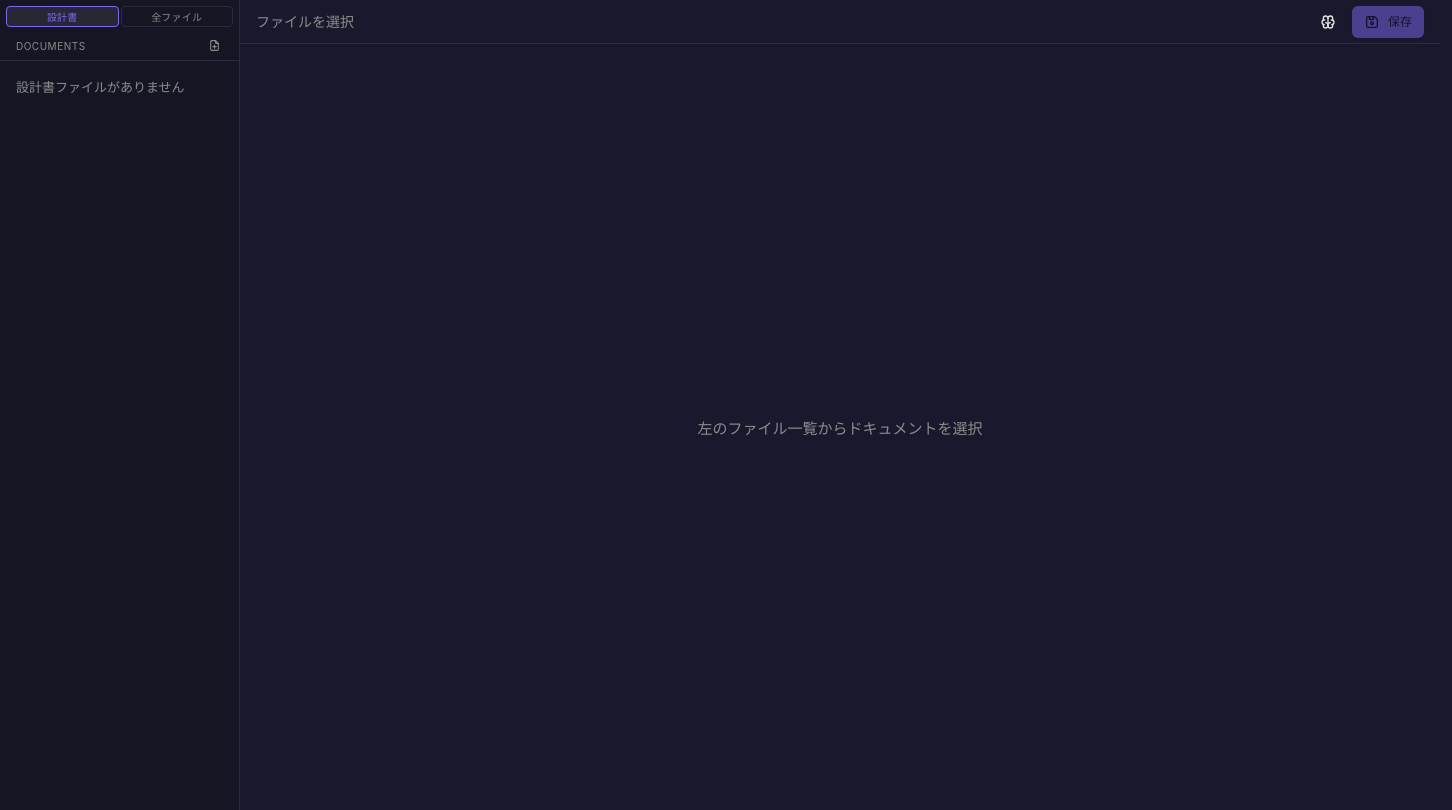
Test: EditorScreen — ツールバー › AI パネルボタンで AiAssistant が表示される
Click the button titled "AI アシスタント": [1328, 22] box [1312, 6, 1344, 38]
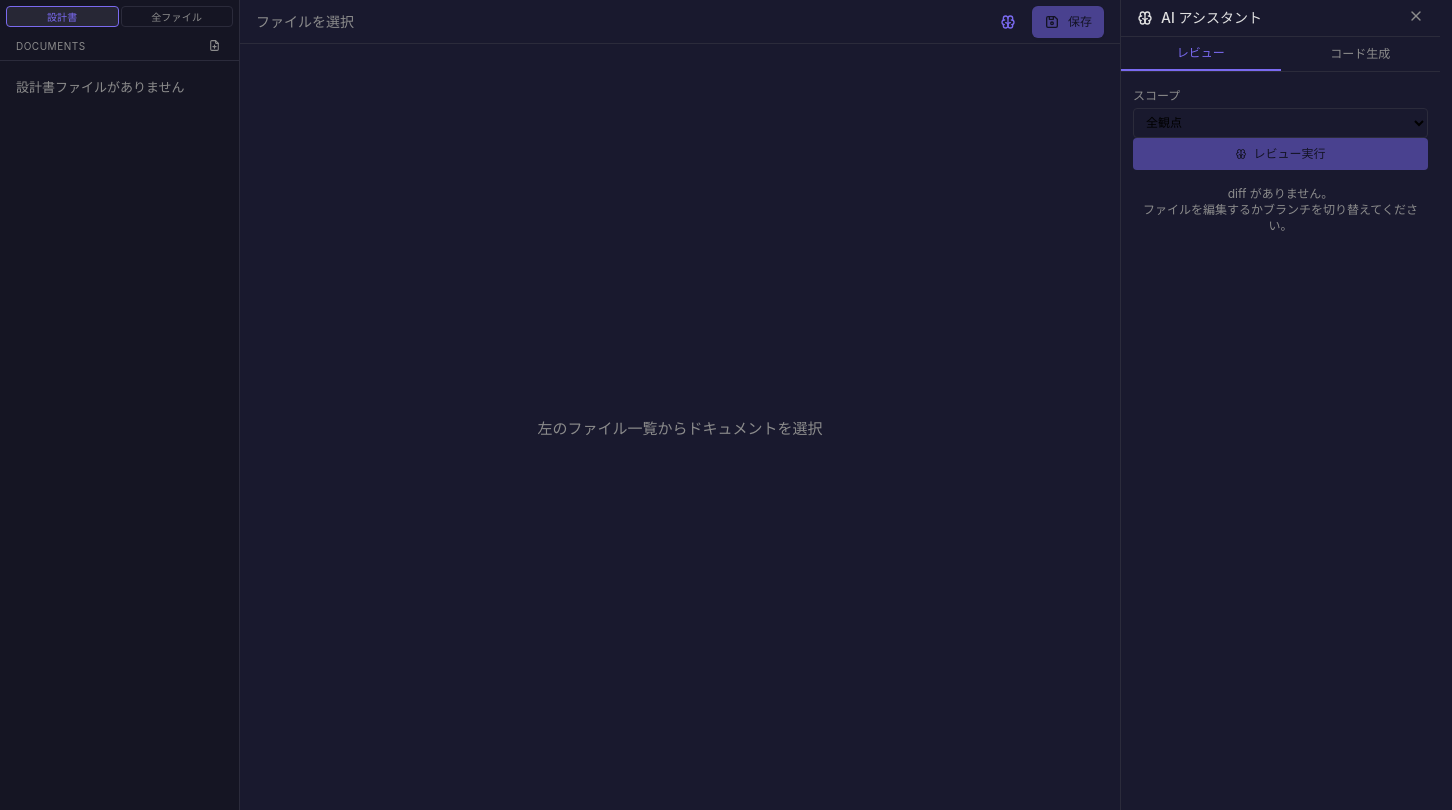
Expected: the element with test id "ai-assistant" is shown, [1120, 0, 1440, 809]
